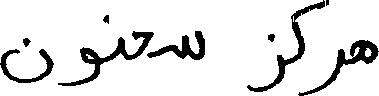X: (293, 0, 326, 95), (0, 33, 51, 87), (250, 29, 281, 95), (61, 42, 98, 90), (328, 0, 343, 89), (173, 26, 202, 64), (104, 10, 123, 66), (135, 27, 151, 62), (362, 35, 378, 68)
